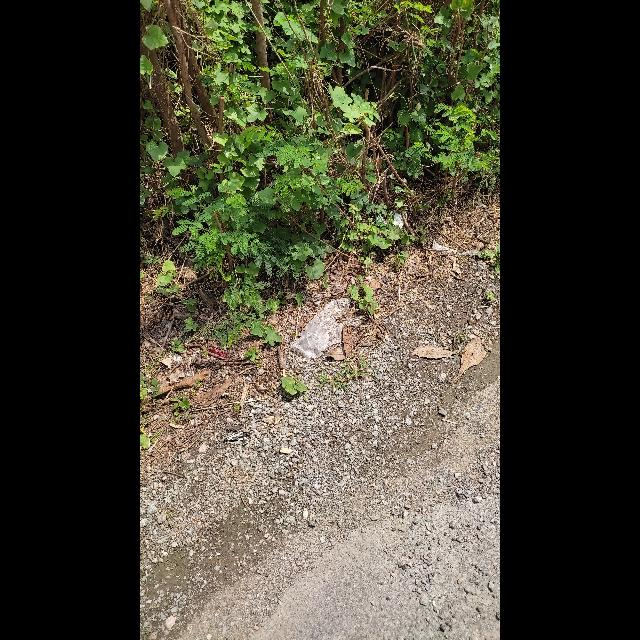plastic_bag: (289, 290, 366, 362)
